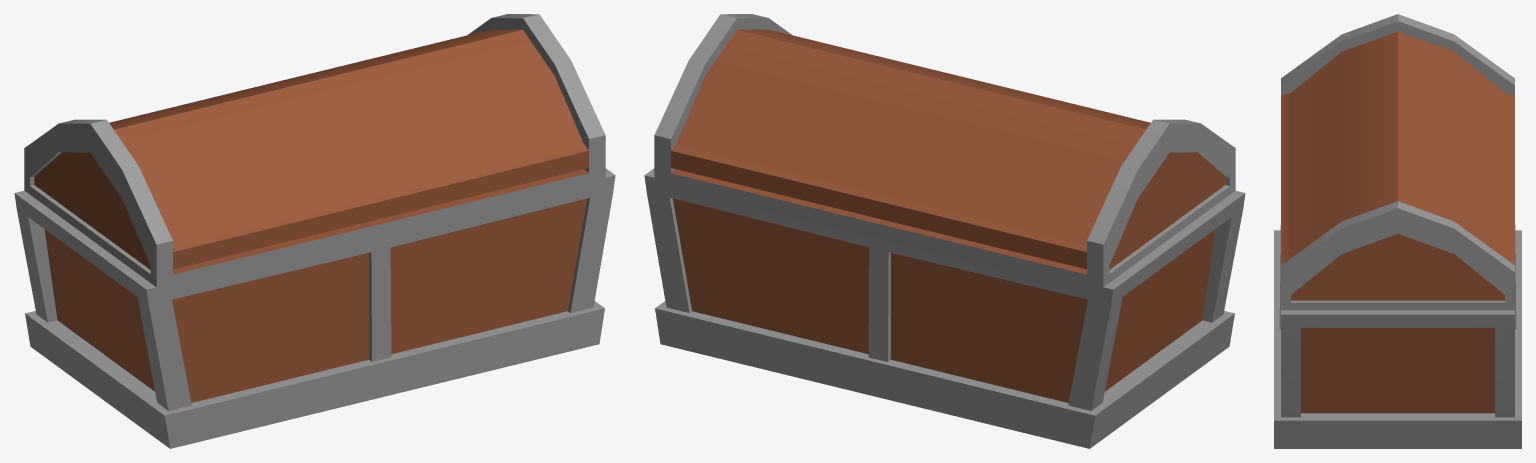
The model's file is chest.glb.
3 views of the same model, side by side, from view 1: azimuth 30°, elevation 25°; view 2: azimuth 150°, elevation 25°; view 3: azimuth 270°, elevation 25° (orthographic). The views are drawn at different scales.
Parts seen in each view (by area): view 1: Cube.001, Cube, Cube.002; view 2: Cube.001, Cube, Cube.002; view 3: Cube.001, Cube.002, Cube.
Boxes of the visible parts, <box> form: Cube.001: <box>24,14,605,287</box>; Cube: <box>44,198,586,402</box>; Cube.002: <box>14,168,615,448</box>; Cube.001: <box>654,14,1235,287</box>; Cube: <box>673,198,1215,402</box>; Cube.002: <box>644,168,1245,448</box>; Cube.001: <box>1281,14,1514,310</box>; Cube.002: <box>1274,225,1521,448</box>; Cube: <box>1301,328,1494,413</box>.
Size of the model in its own units: 4.26 by 2.4 by 2.2.
